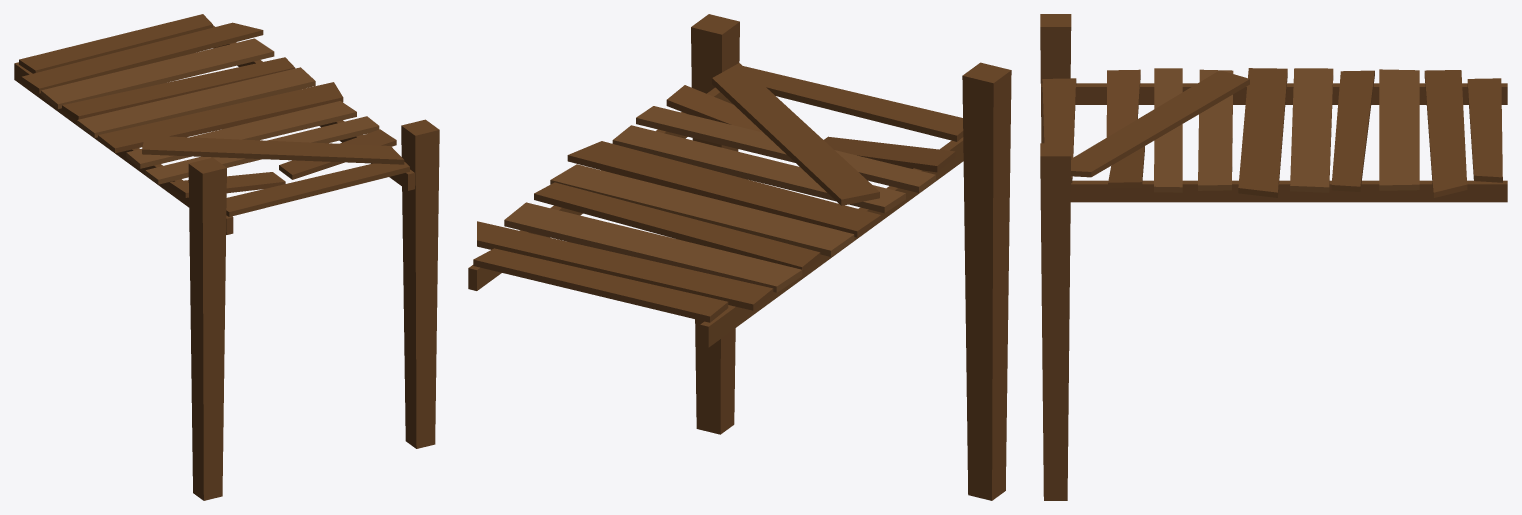
The model's file is Pier_04.fbx.
The picture shows the model from 3 angles, left to right: view 1: azimuth 30°, elevation 25°; view 2: azimuth 150°, elevation 25°; view 3: azimuth 270°, elevation 25°; orthographic projection. The views are drawn at different scales.
Parts seen in each view (by area): view 1: Pier_04; view 2: Pier_04; view 3: Pier_04.
Part boxes in pixels (x1,y1,x2,y2): Pier_04: (14, 14, 439, 500); Pier_04: (468, 14, 1011, 500); Pier_04: (1040, 14, 1507, 500).
Bounding box in the file's own units: 191 × 251 × 294.
